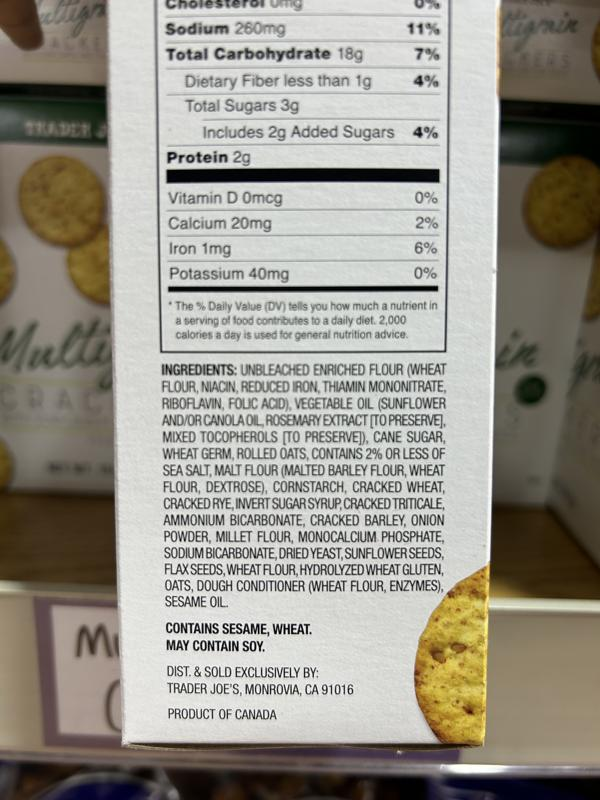ingredients: (157, 362, 447, 610)
